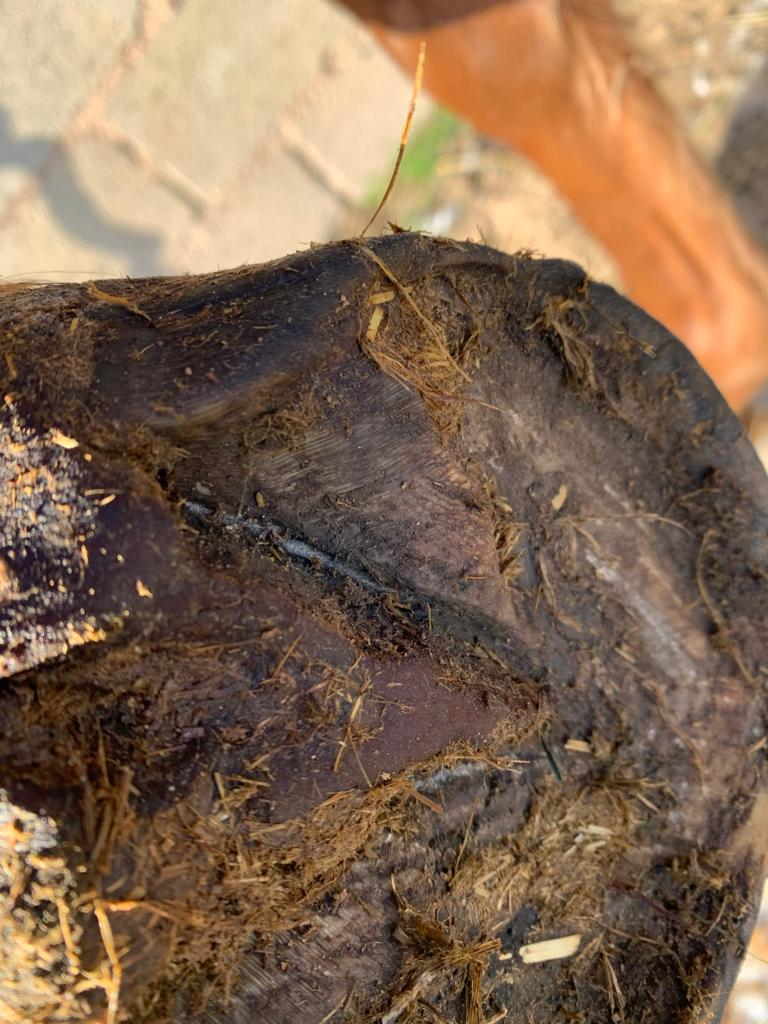horsesole: (37, 237, 768, 1024)
